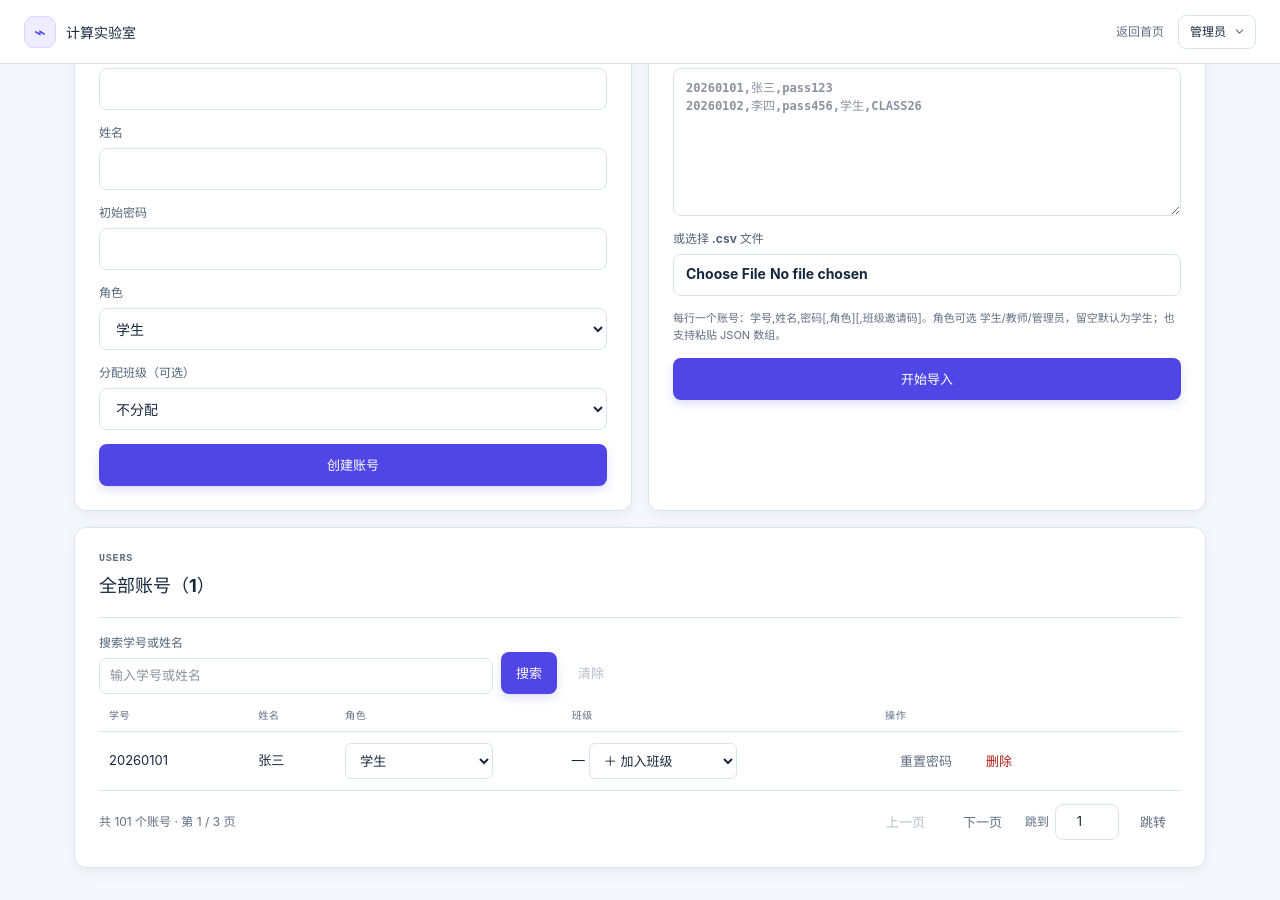
Test: AdminPage › searches accounts and jumps to a page
(page scrolled)
In the search field labelled "搜索学号或姓名": (296, 676) left=99, top=658, right=493, bottom=694, type "张三"
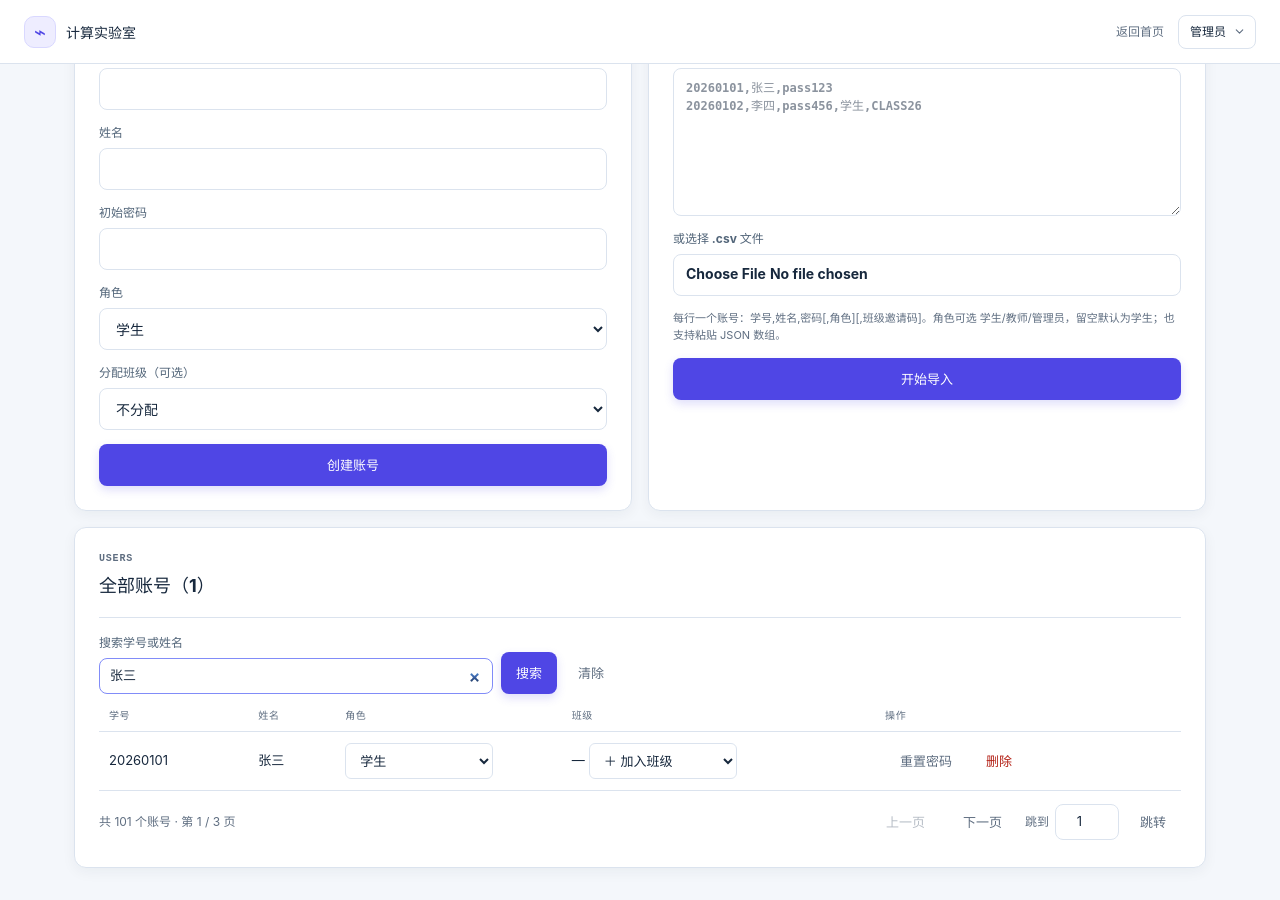
Click the button "搜索": (529, 673) left=501, top=652, right=557, bottom=694
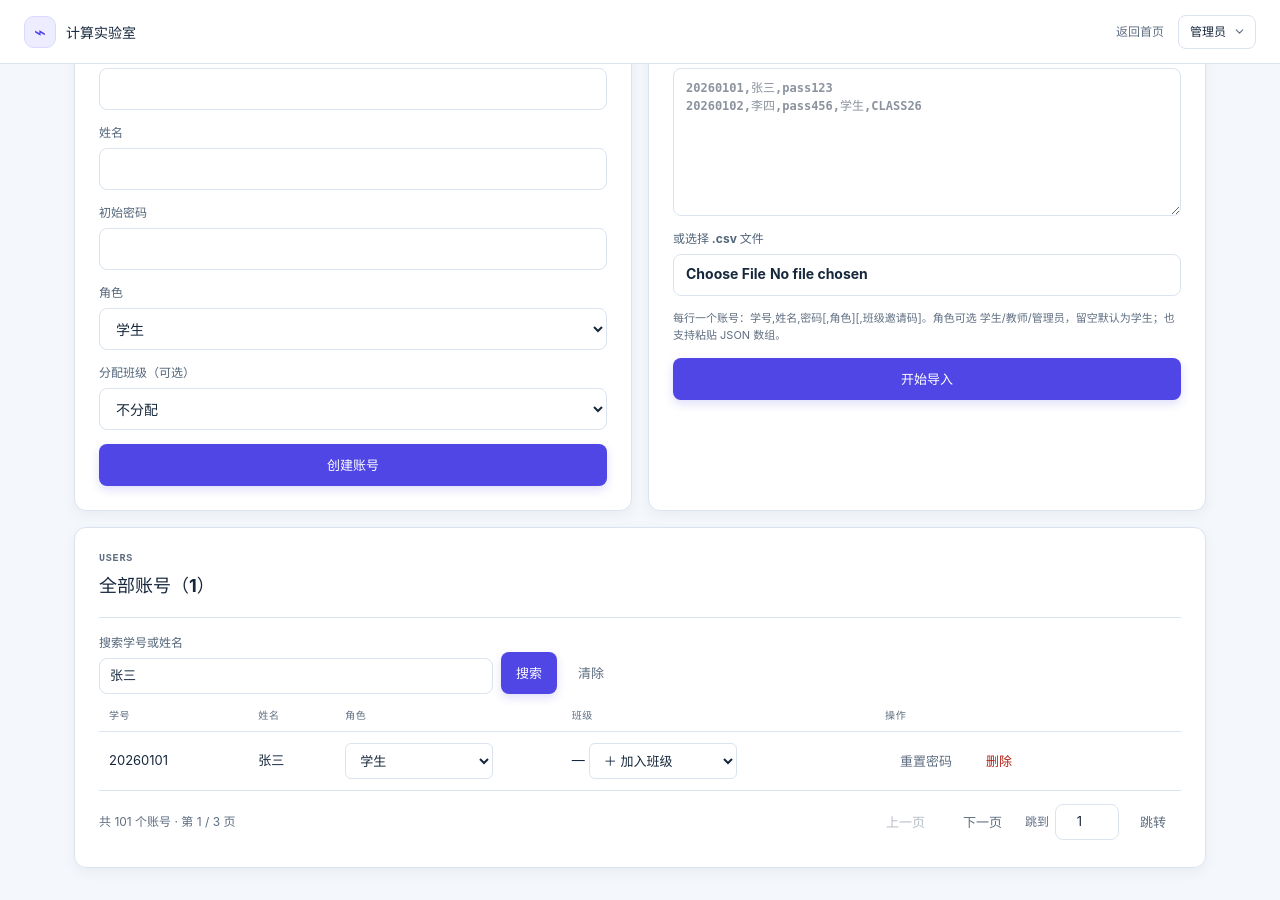
Replace the text in the number field named "跳转页码" with "2": (1087, 822) left=1055, top=804, right=1119, bottom=840
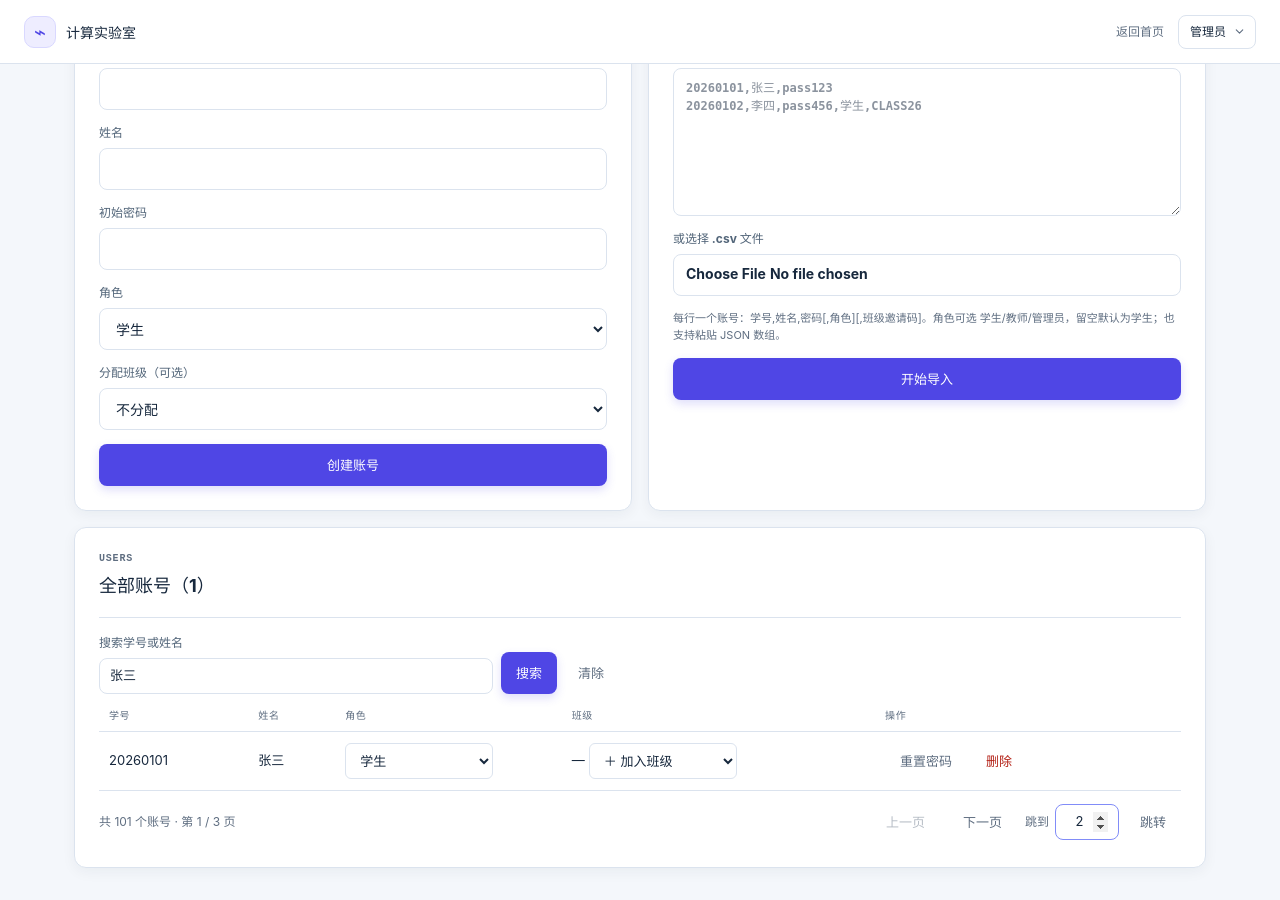
Click the button "跳转": (1153, 822) left=1125, top=801, right=1181, bottom=843
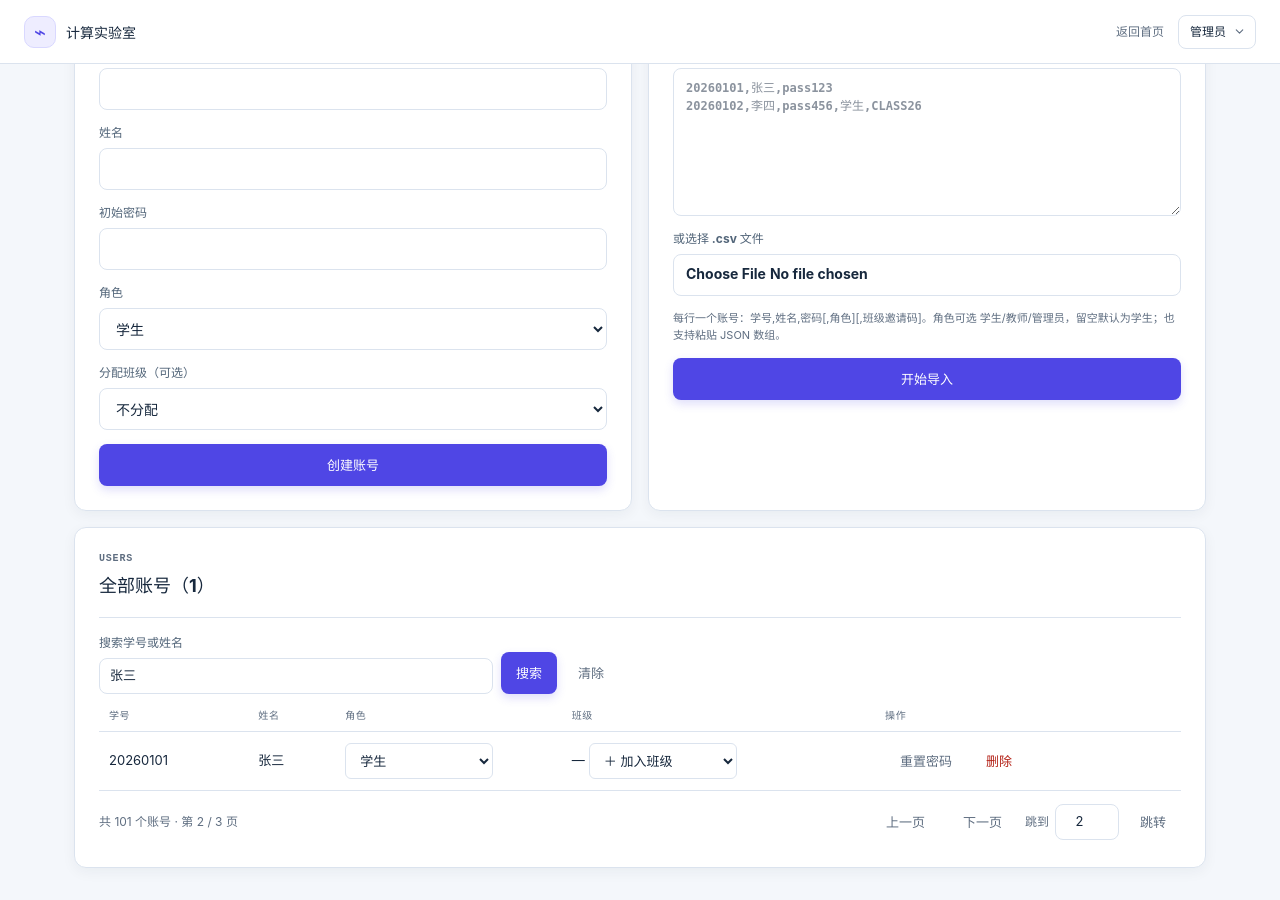
Result: the text "共 101 个账号 · 第 2 / 3 页" is shown at left=99, top=813, right=238, bottom=831
